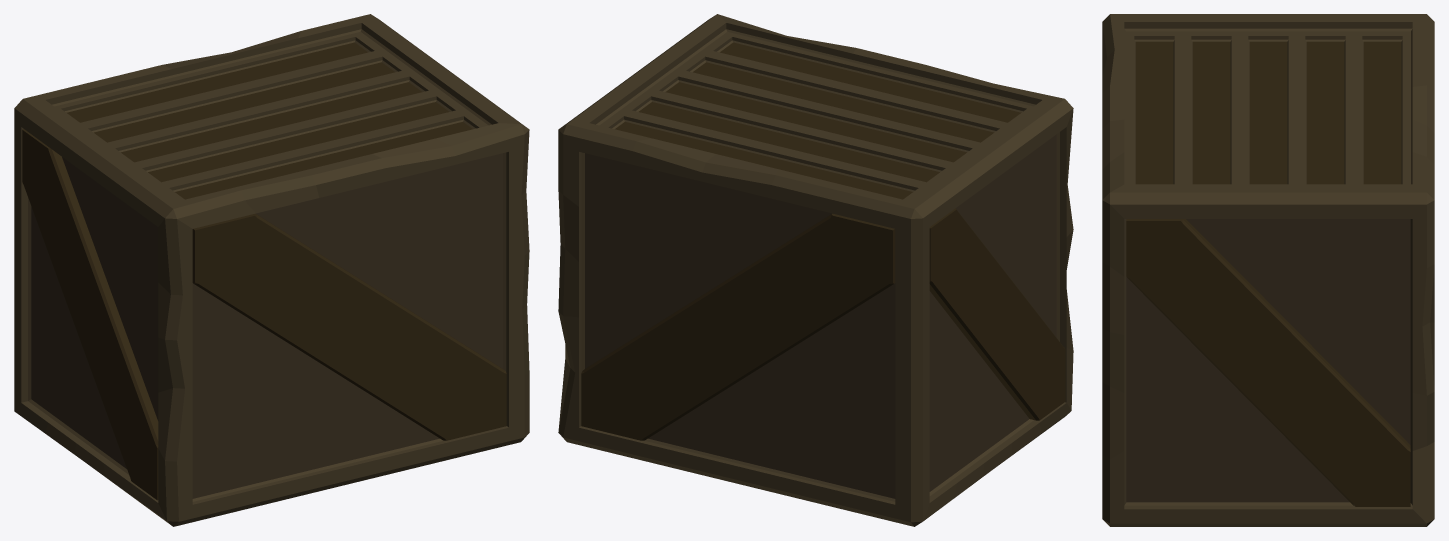
3 renders of one model, left to right at view 1: azimuth 30°, elevation 25°; view 2: azimuth 150°, elevation 25°; view 3: azimuth 270°, elevation 25°, orthographic. The views are drawn at different scales.
Parts seen in each view (by area): view 1: ลูกบาศก์.165; view 2: ลูกบาศก์.165; view 3: ลูกบาศก์.165.
Boxes of the visible parts, x1,y1,x2,y2 form: ลูกบาศก์.165: [14, 14, 529, 526]; ลูกบาศก์.165: [558, 14, 1073, 526]; ลูกบาศก์.165: [1102, 14, 1434, 526].
Bounding box in the file's own units: 600 × 500 × 450.
